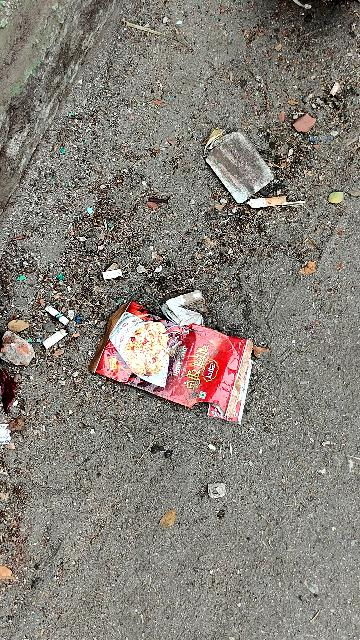packet: (103, 298, 254, 416)
